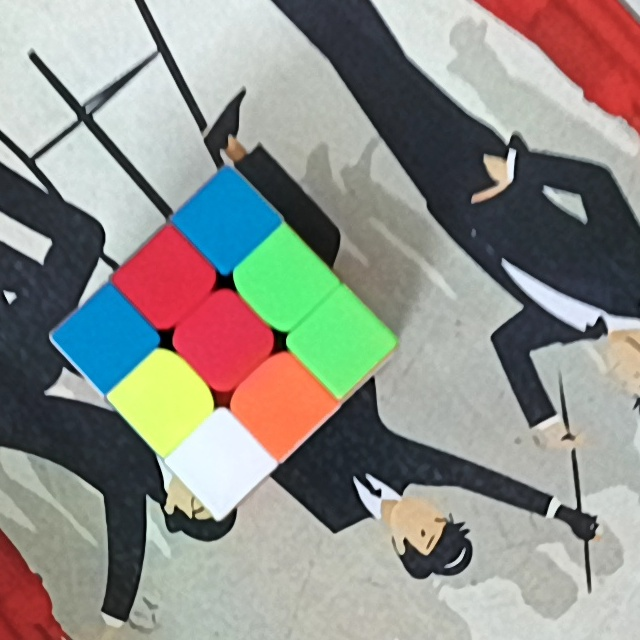tile: (313, 311, 367, 372), (194, 313, 251, 370), (253, 372, 308, 431), (135, 376, 191, 429), (194, 436, 247, 490), (77, 314, 132, 366), (259, 253, 310, 309), (200, 194, 251, 249), (140, 252, 193, 302)
